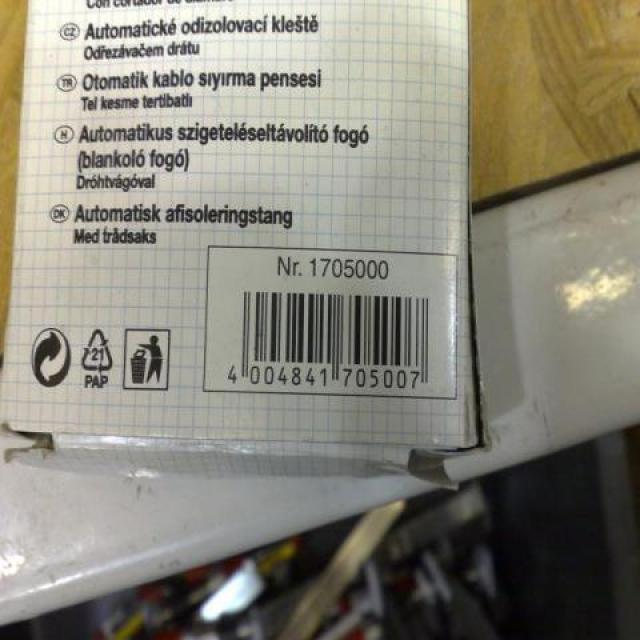Barcode: (201, 245, 458, 399)
